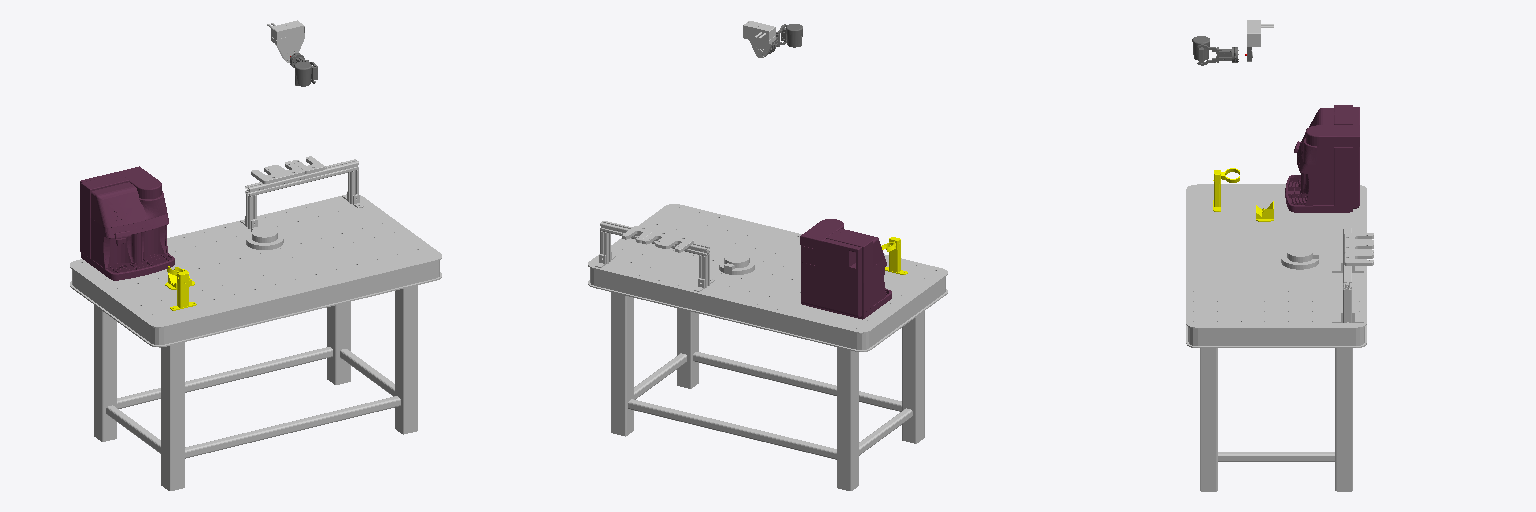
URDF robot description (aubo_e5):
<?xml version="1.0" ?>
<!-- =================================================================================== -->
<!-- |    This document was autogenerated by xacro from /home/mu/IVG2.0/aubo_ros2_ws/src/aubo_ros2_driver/aubo_moveit_config/config/aubo_e5.urdf.xacro | -->
<!-- |    EDITING THIS FILE BY HAND IS NOT RECOMMENDED                                 | -->
<!-- =================================================================================== -->
<robot name="aubo_e5">
  <!-- ===== 机械臂本体 (6-DOF) ===== -->
  <link name="base_link">
    <inertial>
      <origin rpy="0 0 0" xyz="-1.4795E-13 0.0015384 0.020951"/>
      <mass value="0.83419"/>
      <inertia ixx="0.0014414" ixy="7.8809E-15" ixz="8.5328E-16" iyy="0.0013542" iyz="-1.4364E-05" izz="0.0024659"/>
    </inertial>
    <visual>
      <origin rpy="0 0 0" xyz="0 0 0"/>
      <geometry>
        <mesh filename="package://aubo_description/meshes/visual/link0.dae"/>
      </geometry>
      <material name="">
        <color rgba="0.82 0.82 0.82 1"/>
      </material>
    </visual>
    <collision>
      <origin rpy="0 0 0" xyz="0 0 0"/>
      <geometry>
        <mesh filename="package://aubo_description/meshes/collision/link0.stl"/>
      </geometry>
    </collision>
  </link>
  <link name="shoulder_Link">
    <inertial>
      <origin rpy="0 0 0" xyz="0 0.0038 0.0006"/>
      <mass value="5.05"/>
      <inertia ixx="0.0148" ixy="0" ixz="0" iyy="0.0143" iyz="0" izz="0.0095"/>
    </inertial>
    <visual>
      <origin rpy="0 0 0" xyz="0 0 0"/>
      <geometry>
        <mesh filename="package://aubo_description/meshes/visual/link1.dae"/>
      </geometry>
      <material name="">
        <color rgba="0.82 0.82 0.82 1"/>
      </material>
    </visual>
    <collision>
      <origin rpy="0 0 0" xyz="0 0 0"/>
      <geometry>
        <mesh filename="package://aubo_description/meshes/collision/link1.stl"/>
      </geometry>
    </collision>
  </link>
  <joint name="shoulder_joint" type="revolute">
    <origin rpy="0 0 3.1415926535897932384626433832795" xyz="0 0 0.122"/>
    <parent link="base_link"/>
    <child link="shoulder_Link"/>
    <axis xyz="0 0 1"/>
    <limit effort="133" lower="-3.054326190990076759616458844855" start_stop="207" upper="3.054326190990076759616458844855" velocity="2.5964"/>
  </joint>
  <link name="upperArm_Link">
    <inertial>
      <origin rpy="0 0 0" xyz="0.2040 0 0.0196"/>
      <mass value="11.28"/>
      <inertia ixx="0.0305" ixy="0" ixz="0" iyy="0.4505" iyz="0" izz="0.4400"/>
    </inertial>
    <visual>
      <origin rpy="0 0 0" xyz="0 0 0"/>
      <geometry>
        <mesh filename="package://aubo_description/meshes/visual/link2.dae"/>
      </geometry>
      <material name="">
        <color rgba="0.82 0.82 0.82 1"/>
      </material>
    </visual>
    <collision>
      <origin rpy="0 0 0" xyz="0 0 0"/>
      <geometry>
        <mesh filename="package://aubo_description/meshes/collision/link2.stl"/>
      </geometry>
    </collision>
  </link>
  <joint name="upperArm_joint" type="revolute">
    <origin rpy="-1.5707963267948966192313216916398 -1.5707963267948966192313216916398 0" xyz="0 0.1215 0"/>
    <parent link="shoulder_Link"/>
    <child link="upperArm_Link"/>
    <axis xyz="0 0 1"/>
    <limit effort="133" lower="-3.054326190990076759616458844855" start_stop="207" upper="3.054326190990076759616458844855" velocity="2.5964"/>
  </joint>
  <link name="foreArm_Link">
    <inertial>
      <origin rpy="0 0 0" xyz="0.2699 0 0.0992"/>
      <mass value="2.88"/>
      <inertia ixx="0.0033" ixy="0" ixz="0" iyy="0.0575" iyz="0" izz="0.0565"/>
    </inertial>
    <visual>
      <origin rpy="0 0 0" xyz="0 0 0"/>
      <geometry>
        <mesh filename="package://aubo_description/meshes/visual/link3.dae"/>
      </geometry>
      <material name="">
        <color rgba="0.82 0.82 0.82 1"/>
      </material>
    </visual>
    <collision>
      <origin rpy="0 0 0" xyz="0 0 0"/>
      <geometry>
        <mesh filename="package://aubo_description/meshes/collision/link3.stl"/>
      </geometry>
    </collision>
  </link>
  <joint name="foreArm_joint" type="revolute">
    <origin rpy="-3.1415926535897932384626433832795 0 0" xyz="0.408 0 0"/>
    <parent link="upperArm_Link"/>
    <child link="foreArm_Link"/>
    <axis xyz="0 0 1"/>
    <limit effort="133" lower="-3.054326190990076759616458844855" start_stop="207" upper="3.054326190990076759616458844855" velocity="2.5964"/>
  </joint>
  <link name="wrist1_Link">
    <inertial>
      <origin rpy="0 0 0" xyz="0 -0.0997 -0.0780"/>
      <mass value="1.62"/>
      <inertia ixx="0.0023" ixy="0" ixz="0" iyy="0.0013" iyz="0" izz="0.0022"/>
    </inertial>
    <visual>
      <origin rpy="0 0 0" xyz="0 0 0"/>
      <geometry>
        <mesh filename="package://aubo_description/meshes/visual/link4.dae"/>
      </geometry>
      <material name="">
        <color rgba="0.82 0.82 0.82 1"/>
      </material>
    </visual>
    <collision>
      <origin rpy="0 0 0" xyz="0 0 0"/>
      <geometry>
        <mesh filename="package://aubo_description/meshes/collision/link4.stl"/>
      </geometry>
    </collision>
  </link>
  <joint name="wrist1_joint" type="revolute">
    <origin rpy="3.1415926535897932384626433832795 0 1.5707963267948966192313216916398" xyz="0.376 0 0"/>
    <parent link="foreArm_Link"/>
    <child link="wrist1_Link"/>
    <axis xyz="0 0 1"/>
    <limit effort="13.5" lower="-3.054326190990076759616458844855" start_stop="34" upper="3.054326190990076759616458844855" velocity="3.1105"/>
  </joint>
  <link name="wrist2_Link">
    <inertial>
      <origin rpy="0 0 0" xyz="0 -0.0028 -0.0030"/>
      <mass value="1.62"/>
      <inertia ixx="0.0023" ixy="0" ixz="0" iyy="0.0013" iyz="0" izz="0.0022"/>
    </inertial>
    <visual>
      <origin rpy="0 0 0" xyz="0 0 0"/>
      <geometry>
        <mesh filename="package://aubo_description/meshes/visual/link5.dae"/>
      </geometry>
      <material name="">
        <color rgba="0.82 0.82 0.82 1"/>
      </material>
    </visual>
    <collision>
      <origin rpy="0 0 0" xyz="0 0 0"/>
      <geometry>
        <mesh filename="package://aubo_description/meshes/collision/link5.stl"/>
      </geometry>
    </collision>
  </link>
  <joint name="wrist2_joint" type="revolute">
    <origin rpy="-1.5707963267948966192313216916398 0 0" xyz="0 0.1025 0"/>
    <parent link="wrist1_Link"/>
    <child link="wrist2_Link"/>
    <axis xyz="0 0 1"/>
    <limit effort="13.5" lower="-3.054326190990076759616458844855" start_stop="34" upper="3.054326190990076759616458844855" velocity="3.1105"/>
  </joint>
  <link name="wrist3_Link">
    <inertial>
      <origin rpy="0 0 0" xyz="0 0 -0.0442"/>
      <mass value="0.5"/>
      <inertia ixx="0.00139395" ixy="0" ixz="0" iyy="0.00139882" iyz="0" izz="0.00224092"/>
    </inertial>
    <visual>
      <origin rpy="0 0 0" xyz="0 0 0"/>
      <geometry>
        <mesh filename="package://aubo_description/meshes/visual/link6.dae"/>
      </geometry>
      <material name="">
        <color rgba="0.82 0.82 0.82 1"/>
      </material>
    </visual>
    <collision>
      <origin rpy="0 0 0" xyz="0 0 0"/>
      <geometry>
        <mesh filename="package://aubo_description/meshes/collision/link6.stl"/>
      </geometry>
    </collision>
  </link>
  <joint name="wrist3_joint" type="revolute">
    <origin rpy="1.5707963267948966192313216916398 0 1.7907E-15" xyz="0 -0.094 0"/>
    <parent link="wrist2_Link"/>
    <child link="wrist3_Link"/>
    <axis xyz="0 0 1"/>
    <limit effort="13.5" lower="-3.054326190990076759616458844855" start_stop="34" upper="3.054326190990076759616458844855" velocity="3.1105"/>
  </joint>
  <link name="world"/>
  <!-- ===== 底座（咖啡机总装模型 pedestal_Link） ===== -->
  <link name="pedestal_Link">
    <inertial>
      <origin rpy="0 0 0" xyz="0.0024005 -0.14873 -0.0020194"/>
      <mass value="180.93"/>
      <inertia ixx="10.702" ixy="6.7618E-17" ixz="3.0187E-14" iyy="41.01" iyz="1.466E-07" izz="32.457"/>
    </inertial>
    <visual>
      <origin rpy="0 0 0" xyz="0 0 0"/>
      <geometry>
        <mesh filename="package://aubo_description/meshes/visual/pedestal_link.stl"/>
      </geometry>
      <material name="">
        <color rgba="0.82 0.82 0.82 1"/>
      </material>
    </visual>
    <collision>
      <origin rpy="0 0 0" xyz="0 0 0"/>
      <geometry>
        <mesh filename="package://aubo_description/meshes/collision/pedestal_link.stl"/>
      </geometry>
    </collision>
  </link>
  <joint name="world_to_pedestal" type="fixed">
    <parent link="world"/>
    <child link="pedestal_Link"/>
    <origin rpy="0.0 0.0 0.0" xyz="0.0 0.0 0.0"/>
  </joint>
  <joint name="base_joint" type="fixed">
    <origin rpy="0 0 0" xyz="0.10483 0.10483 0.028"/>
    <parent link="pedestal_Link"/>
    <child link="base_link"/>
  </joint>
  <!-- ===== 咖啡机总装模型配件 ===== -->
  <link name="cup0_Link">
    <inertial>
      <origin rpy="0 0 0" xyz="0.0459046653140415 0.0335578409178754 0.00298286778797363"/>
      <mass value="1.42763211505643"/>
      <inertia ixx="0.00133864759857838" ixy="-0.000153798571779387" ixz="-3.31742934007893E-05" iyy="0.00208448111254178" iyz="-3.67284842420613E-05" izz="0.0011896985575748"/>
    </inertial>
    <visual>
      <origin rpy="0 0 0" xyz="0 0 0"/>
      <geometry>
        <mesh filename="package://aubo_description/meshes/visual/cup0_link.stl"/>
      </geometry>
      <material name="">
        <color rgba="1 1 0 1"/>
      </material>
    </visual>
    <collision>
      <origin rpy="0 0 0" xyz="0 0 0"/>
      <geometry>
        <mesh filename="package://aubo_description/meshes/collision/cup0_link.stl"/>
      </geometry>
    </collision>
  </link>
  <joint name="cup0_joint" type="fixed">
    <origin rpy="1.5708 0 1.5708" xyz="-0.4225 -0.0925 -0.012"/>
    <parent link="pedestal_Link"/>
    <child link="cup0_Link"/>
  </joint>
  <link name="lizhu_Link">
    <inertial>
      <origin rpy="0 0 0" xyz="0.012277 0.082104 1.7053E-05"/>
      <mass value="0.86598"/>
      <inertia ixx="0.0014347" ixy="1.5778E-05" ixz="1.1895E-08" iyy="0.00066764" iyz="3.1238E-05" izz="0.0012088"/>
    </inertial>
    <visual>
      <origin rpy="0 0 0" xyz="0 0 0"/>
      <geometry>
        <mesh filename="package://aubo_description/meshes/visual/lizhu_link.stl"/>
      </geometry>
      <material name="">
        <color rgba="1 1 0 1"/>
      </material>
    </visual>
    <collision>
      <origin rpy="0 0 0" xyz="0 0 0"/>
      <geometry>
        <mesh filename="package://aubo_description/meshes/collision/lizhu_link.stl"/>
      </geometry>
    </collision>
  </link>
  <joint name="lizhu_joint" type="fixed">
    <origin rpy="1.5708 0 1.5708" xyz="-0.525 -0.2625 0.006"/>
    <parent link="pedestal_Link"/>
    <child link="lizhu_Link"/>
  </joint>
  <link name="coffee_Link">
    <inertial>
      <origin rpy="0 0 0" xyz="0.01588 0.20584 0.0021911"/>
      <mass value="91.454"/>
      <inertia ixx="0.89876" ixy="0.0020091" ixz="-0.10749" iyy="1.0151" iyz="0.023803" izz="0.44104"/>
    </inertial>
    <visual>
      <origin rpy="0 0 0" xyz="0 0 0"/>
      <geometry>
        <mesh filename="package://aubo_description/meshes/visual/coffee_link.stl"/>
      </geometry>
      <material name="">
        <color rgba="0.42745 0.24706 0.35686 1"/>
      </material>
    </visual>
    <collision>
      <origin rpy="0 0 0" xyz="0 0 0"/>
      <geometry>
        <mesh filename="package://aubo_description/meshes/collision/coffee_link.stl"/>
      </geometry>
    </collision>
  </link>
  <joint name="coffee_joint" type="fixed">
    <origin rpy="1.5708 0 1.5708" xyz="-0.53995 0.20318 0.046"/>
    <parent link="pedestal_Link"/>
    <child link="coffee_Link"/>
  </joint>
  <!-- ===== 末端执行器: 相机 ===== -->
  <link name="camera_Link">
    <inertial>
      <origin rpy="0 0 0" xyz="-0.0005963 0.085972 -0.026401"/>
      <mass value="0.72743"/>
      <inertia ixx="0.00064649" ixy="2.7688E-06" ixz="-2.0272E-05" iyy="0.0013072" iyz="8.2399E-05" izz="0.0014971"/>
    </inertial>
    <visual>
      <origin rpy="0 0 0" xyz="0 0 0"/>
      <geometry>
        <mesh filename="package://aubo_description/meshes/visual/camera_link.stl"/>
      </geometry>
      <material name="">
        <color rgba="0.82 0.82 0.82 1"/>
      </material>
    </visual>
    <collision>
      <origin rpy="0 0 0" xyz="0 0 0"/>
      <geometry>
        <mesh filename="package://aubo_description/meshes/collision/camera_link.stl"/>
      </geometry>
    </collision>
  </link>
  <joint name="camera_joint" type="fixed">
    <origin rpy="0.0 0.0 0.0" xyz="0.0 0.0 0.020"/>
    <parent link="wrist3_Link"/>
    <child link="camera_Link"/>
  </joint>
  <!-- ===== 末端执行器: 快换法兰 ===== -->
  <link name="kuaihuan_Link">
    <inertial>
      <origin rpy="0 0 0" xyz="-0.00074639 7.4616E-05 0.0097884"/>
      <mass value="0.21939"/>
      <inertia ixx="6.3771E-05" ixy="4.2875E-07" ixz="-1.7848E-07" iyy="6.9403E-05" iyz="-4.5085E-07" izz="0.0001149"/>
    </inertial>
    <visual>
      <origin rpy="0 0 0" xyz="0 0 0"/>
      <geometry>
        <mesh filename="package://aubo_description/meshes/visual/kuaihuan_link.stl"/>
      </geometry>
      <material name="">
        <color rgba="0.82 0.82 0.82 1"/>
      </material>
    </visual>
    <collision>
      <origin rpy="0 0 0" xyz="0 0 0"/>
      <geometry>
        <mesh filename="package://aubo_description/meshes/collision/kuaihuan_link.stl"/>
      </geometry>
    </collision>
  </link>
  <joint name="kuaihuan_joint" type="fixed">
    <origin rpy="0 0 3.1416" xyz="0 0 0.0215"/>
    <parent link="camera_Link"/>
    <child link="kuaihuan_Link"/>
  </joint>
  <link name="gripper1milkcup_Link">
    <visual>
      <origin rpy="0 0 0" xyz="0 0 0"/>
      <geometry>
        <mesh filename="package://aubo_description/meshes/visual/gripper1milkcup_link.stl"/>
      </geometry>
      <material name="gripper1milkcup_material">
        <color rgba="0.5 0.5 0.5 1.0"/>
      </material>
    </visual>
    <collision>
      <origin rpy="0 0 0" xyz="0 0 0"/>
      <geometry>
        <mesh filename="package://aubo_description/meshes/collision/gripper1milkcup_link.stl"/>
      </geometry>
    </collision>
  </link>
  <joint name="kuaihuan_to_gripper1milkcup" type="fixed">
    <parent link="kuaihuan_Link"/>
    <child link="gripper1milkcup_Link"/>
    <origin rpy="0 0 0" xyz="0 0 0.02"/>
  </joint>
  <!-- Tool Center Point -->
  <link name="tool_tcp">
    <visual>
      <origin rpy="0 0 0" xyz="0 0 0"/>
      <geometry>
        <sphere radius="0.005"/>
      </geometry>
      <material name="tcp_marker">
        <color rgba="1.0 0.0 0.0 1.0"/>
      </material>
    </visual>
  </link>
  <joint name="wrist3_to_tcp" type="fixed">
    <parent link="wrist3_Link"/>
    <child link="tool_tcp"/>
    <origin rpy="0.0 0.0 0.0" xyz="0.0 0.0 0.0235"/>
  </joint>
  <transmission name="shoulder_joint_trans">
    <type>transmission_interface/SimpleTransmission</type>
    <joint name="shoulder_joint">
      <hardwareInterface>hardware_interface/PositionJointInterface</hardwareInterface>
    </joint>
    <actuator name="shoulder_joint_motor">
      <mechanicalReduction>1</mechanicalReduction>
    </actuator>
  </transmission>
  <transmission name="upperArm_joint_trans">
    <type>transmission_interface/SimpleTransmission</type>
    <joint name="upperArm_joint">
      <hardwareInterface>hardware_interface/PositionJointInterface</hardwareInterface>
    </joint>
    <actuator name="upperArm_joint_motor">
      <mechanicalReduction>1</mechanicalReduction>
    </actuator>
  </transmission>
  <transmission name="foreArm_joint_trans">
    <type>transmission_interface/SimpleTransmission</type>
    <joint name="foreArm_joint">
      <hardwareInterface>hardware_interface/PositionJointInterface</hardwareInterface>
    </joint>
    <actuator name="foreArm_joint_motor">
      <mechanicalReduction>1</mechanicalReduction>
    </actuator>
  </transmission>
  <transmission name="wrist1_joint_trans">
    <type>transmission_interface/SimpleTransmission</type>
    <joint name="wrist1_joint">
      <hardwareInterface>hardware_interface/PositionJointInterface</hardwareInterface>
    </joint>
    <actuator name="wrist1_joint_motor">
      <mechanicalReduction>1</mechanicalReduction>
    </actuator>
  </transmission>
  <transmission name="wrist2_joint_trans">
    <type>transmission_interface/SimpleTransmission</type>
    <joint name="wrist2_joint">
      <hardwareInterface>hardware_interface/PositionJointInterface</hardwareInterface>
    </joint>
    <actuator name="wrist2_joint_motor">
      <mechanicalReduction>1</mechanicalReduction>
    </actuator>
  </transmission>
  <transmission name="wrist3_joint_trans">
    <type>transmission_interface/SimpleTransmission</type>
    <joint name="wrist3_joint">
      <hardwareInterface>hardware_interface/PositionJointInterface</hardwareInterface>
    </joint>
    <actuator name="wrist3_joint_motor">
      <mechanicalReduction>1</mechanicalReduction>
    </actuator>
  </transmission>
  <ros2_control name="auboHardwareInterface" type="system">
    <hardware>
      <plugin>fake_components/GenericSystem</plugin>
      <param name="fake_sensor_commands">False</param>
      <param name="state_following_offset">0.0</param>
    </hardware>
    <joint name="shoulder_joint">
      <command_interface name="position">
        <param name="min">-3.05</param>
        <param name="max">3.05</param>
      </command_interface>
      <state_interface name="position"/>
      <state_interface name="velocity"/>
    </joint>
    <joint name="upperArm_joint">
      <command_interface name="position">
        <param name="min">-3.05</param>
        <param name="max">3.05</param>
      </command_interface>
      <state_interface name="position"/>
      <state_interface name="velocity"/>
    </joint>
    <joint name="foreArm_joint">
      <command_interface name="position">
        <param name="min">-3.05</param>
        <param name="max">3.05</param>
      </command_interface>
      <state_interface name="position"/>
      <state_interface name="velocity"/>
    </joint>
    <joint name="wrist1_joint">
      <command_interface name="position">
        <param name="min">-3.05</param>
        <param name="max">3.05</param>
      </command_interface>
      <state_interface name="position"/>
      <state_interface name="velocity"/>
    </joint>
    <joint name="wrist2_joint">
      <command_interface name="position">
        <param name="min">-3.05</param>
        <param name="max">3.05</param>
      </command_interface>
      <state_interface name="position"/>
      <state_interface name="velocity"/>
    </joint>
    <joint name="wrist3_joint">
      <command_interface name="position">
        <param name="min">-3.05</param>
        <param name="max">3.05</param>
      </command_interface>
      <state_interface name="position"/>
      <state_interface name="velocity"/>
    </joint>
  </ros2_control>
</robot>

--- What the picture shows (computed from the rendered views, not written in the file) ---
Views: 3 orthographic renders of the robot side by side, from view 1: azimuth 30°, elevation 25°; view 2: azimuth 150°, elevation 25°; view 3: azimuth 270°, elevation 25°.
Robot: aubo_e5 — 16 links, 15 joints (6 revolute, 9 fixed); root link world; default pose: all joints at 0.
Links seen in each view (by area): view 1: pedestal_Link, coffee_Link, camera_Link, base_link, gripper1milkcup_Link, lizhu_Link; view 2: pedestal_Link, coffee_Link, camera_Link, base_link, gripper1milkcup_Link; view 3: pedestal_Link, coffee_Link, gripper1milkcup_Link, base_link.
Boxes of the visible links, box(x1,y1,x2,y2) form: pedestal_Link: box(70, 156, 441, 490); coffee_Link: box(80, 166, 174, 280); camera_Link: box(267, 20, 304, 62); base_link: box(246, 226, 283, 249); gripper1milkcup_Link: box(290, 53, 317, 86); lizhu_Link: box(167, 266, 196, 310); pedestal_Link: box(588, 204, 947, 490); coffee_Link: box(800, 219, 891, 319); camera_Link: box(743, 21, 775, 57); base_link: box(719, 252, 754, 274); gripper1milkcup_Link: box(768, 24, 802, 53); pedestal_Link: box(1186, 184, 1373, 491); coffee_Link: box(1285, 105, 1359, 212); gripper1milkcup_Link: box(1192, 36, 1238, 65); base_link: box(1281, 246, 1318, 269).
Size in the robot's own frame: 1.5 by 0.83 by 2.02 metres.
7 mesh visuals loaded from 14 distinct referenced files (6 binary STL, 1 Collada DAE); not drawn: 7 (reference not matched to a file when rendering).
